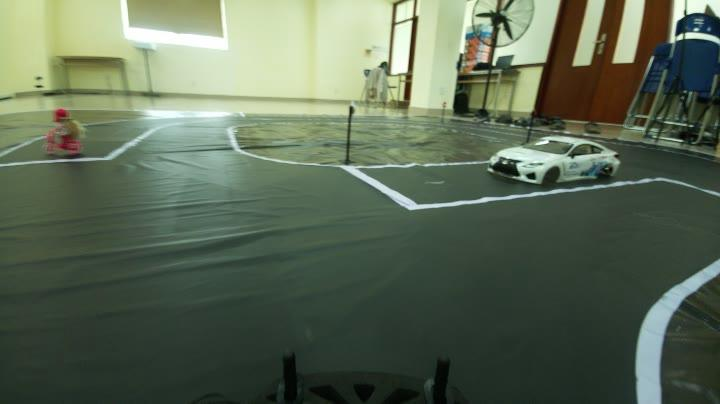car: (489, 128, 624, 190)
